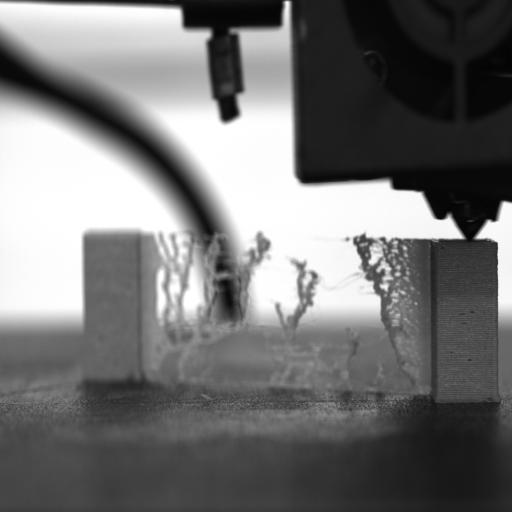spaghetti_and_stringing: (348, 233, 428, 392), (200, 228, 270, 330), (154, 229, 198, 339)
